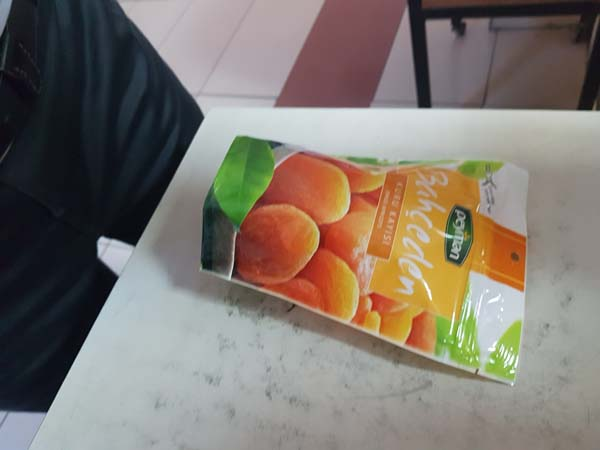bahcedenkurukayisi: (178, 127, 535, 392)
